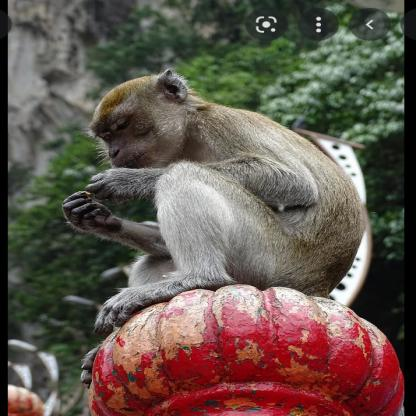monkey: (59, 66, 369, 328)
